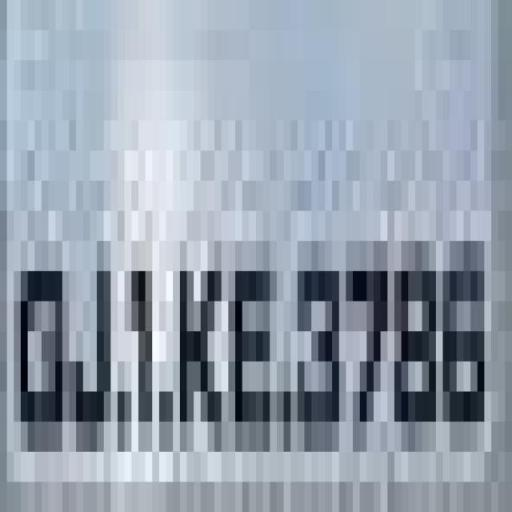number plate: (0, 27, 491, 510)
